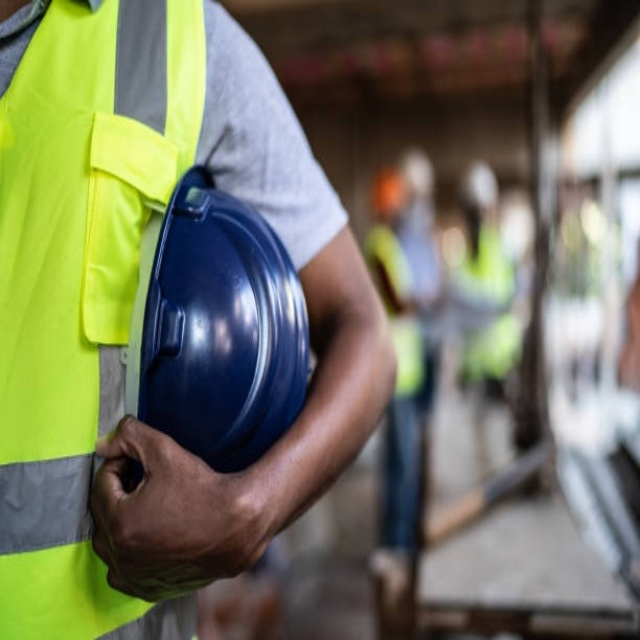Sin_guantes: (85, 409, 233, 597)
